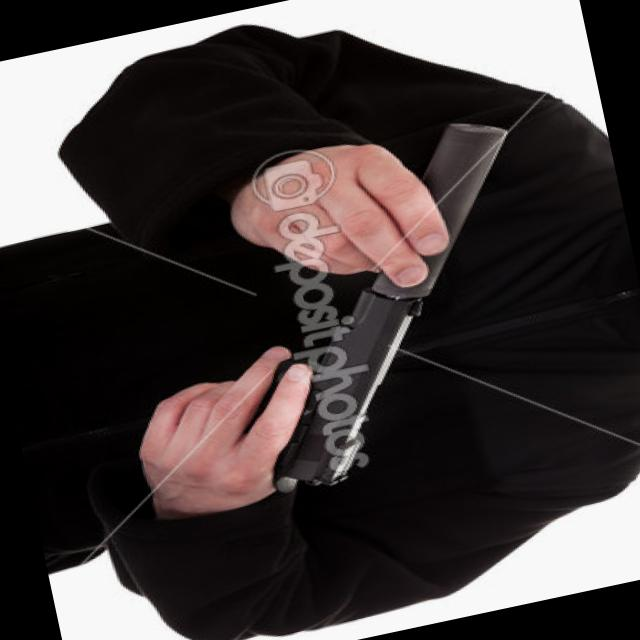handgun: (155, 103, 584, 514)
